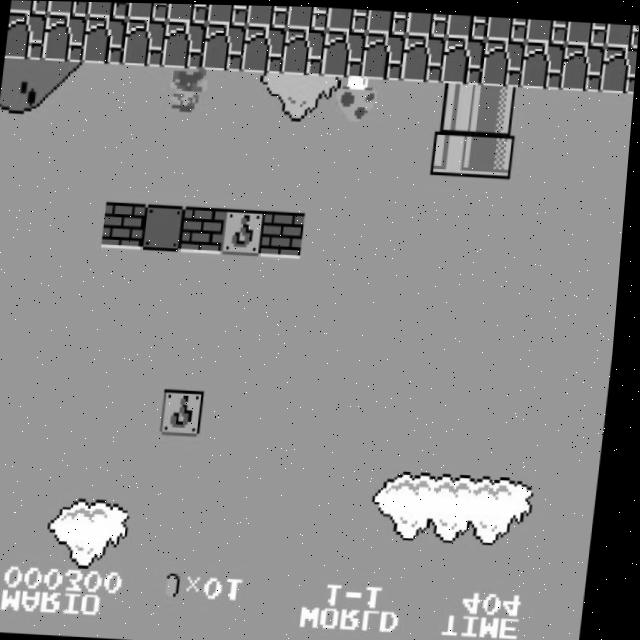1- brick_block: (184, 205, 230, 253), (263, 209, 309, 257), (104, 201, 150, 248)
11- little_mario: (162, 63, 211, 114)
12- mushroom: (332, 72, 380, 123)
13- mystery_block: (223, 207, 269, 255), (165, 388, 211, 435)
14- pipe: (436, 81, 482, 129), (476, 83, 522, 131)
15- pipe_head: (432, 126, 478, 174), (472, 128, 518, 176)
17- undestructible_block: (42, 14, 88, 62), (82, 16, 128, 64), (121, 18, 167, 66), (161, 20, 207, 68), (201, 22, 247, 70), (241, 24, 287, 72), (281, 26, 327, 74), (361, 30, 407, 78), (441, 35, 487, 83), (481, 37, 527, 85), (521, 39, 567, 87), (561, 41, 607, 89), (321, 29, 367, 76), (401, 33, 447, 80), (5, 12, 47, 59), (600, 43, 638, 90), (365, 8, 409, 33), (405, 10, 449, 35), (445, 12, 489, 37), (326, 6, 369, 31), (565, 18, 608, 43), (485, 15, 529, 39), (525, 17, 569, 41), (286, 5, 329, 29), (246, 4, 289, 26), (206, 4, 249, 24), (166, 3, 209, 22), (605, 21, 639, 45), (126, 2, 169, 20), (86, 2, 129, 18), (46, 1, 89, 16), (9, 0, 48, 14)
3- empty_block: (144, 203, 190, 251)
